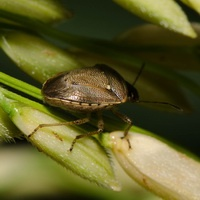insect: (28, 63, 144, 150)
